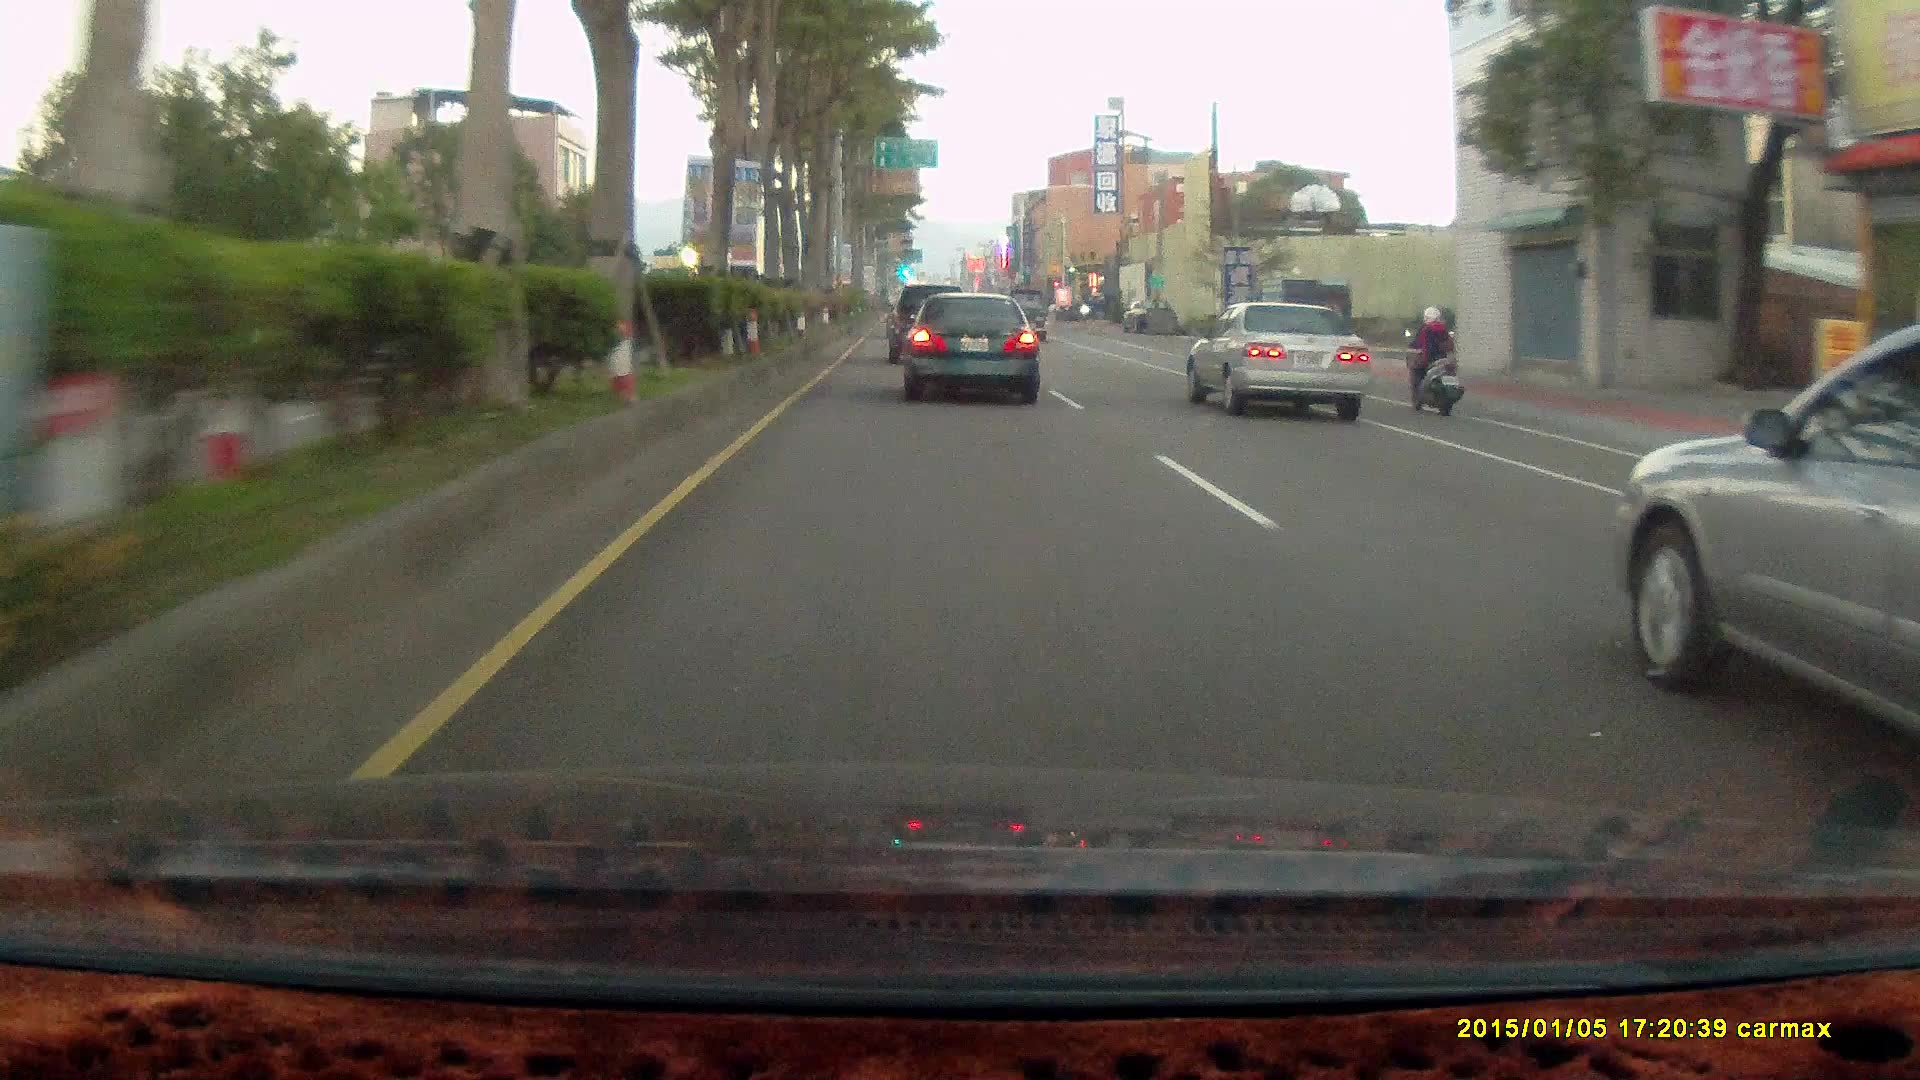rider: (1393, 293, 1473, 424), (1400, 298, 1465, 412)
vehicle: (1618, 336, 1920, 777), (1185, 299, 1369, 420), (1193, 302, 1374, 421), (901, 293, 1041, 405), (900, 291, 1039, 400), (1253, 279, 1353, 365), (888, 281, 969, 367), (888, 283, 969, 365), (1003, 285, 1049, 338)
